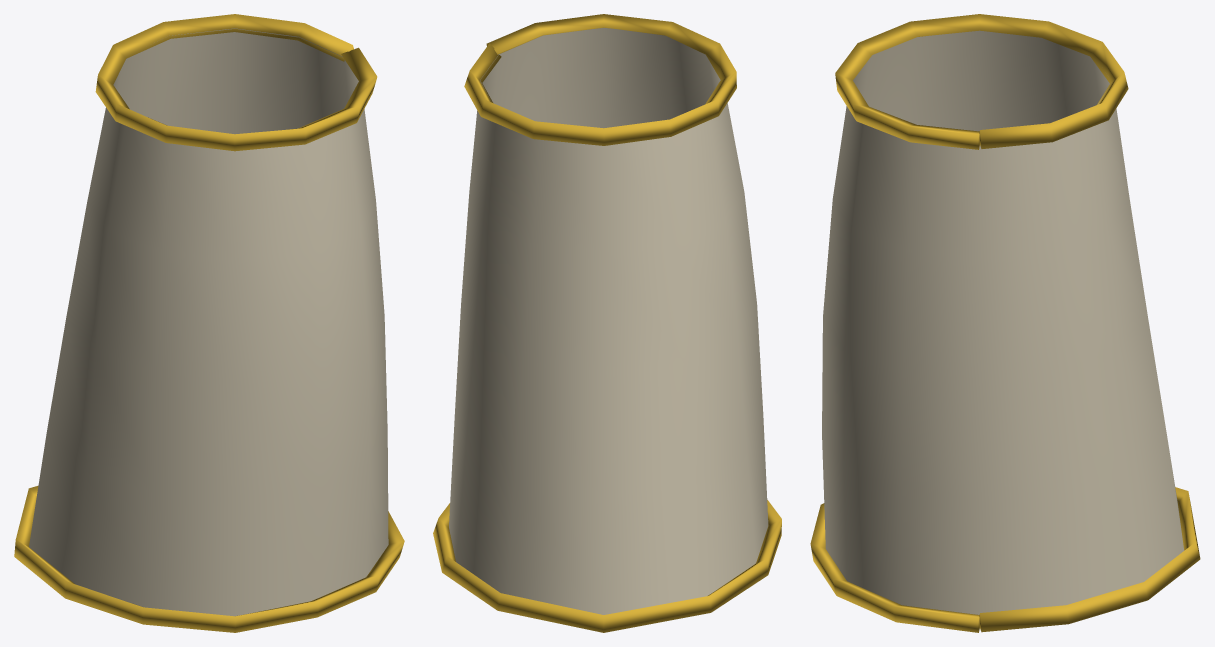
The model's file is radiant_armor_cuisse.R.glb.
3 renders of one model, left to right at view 1: azimuth 30°, elevation 25°; view 2: azimuth 150°, elevation 25°; view 3: azimuth 270°, elevation 25°, orthographic. The views are drawn at different scales.
Visible parts, largest first — view 1: radiant_armor_cuisse.R; view 2: radiant_armor_cuisse.R; view 3: radiant_armor_cuisse.R.
Boxes of the visible parts, x1,y1,x2,y2 form: radiant_armor_cuisse.R: [14, 14, 404, 632]; radiant_armor_cuisse.R: [433, 14, 781, 632]; radiant_armor_cuisse.R: [810, 14, 1200, 632].
Size of the model in its own units: 0.2669 by 0.3856 by 0.2783.
